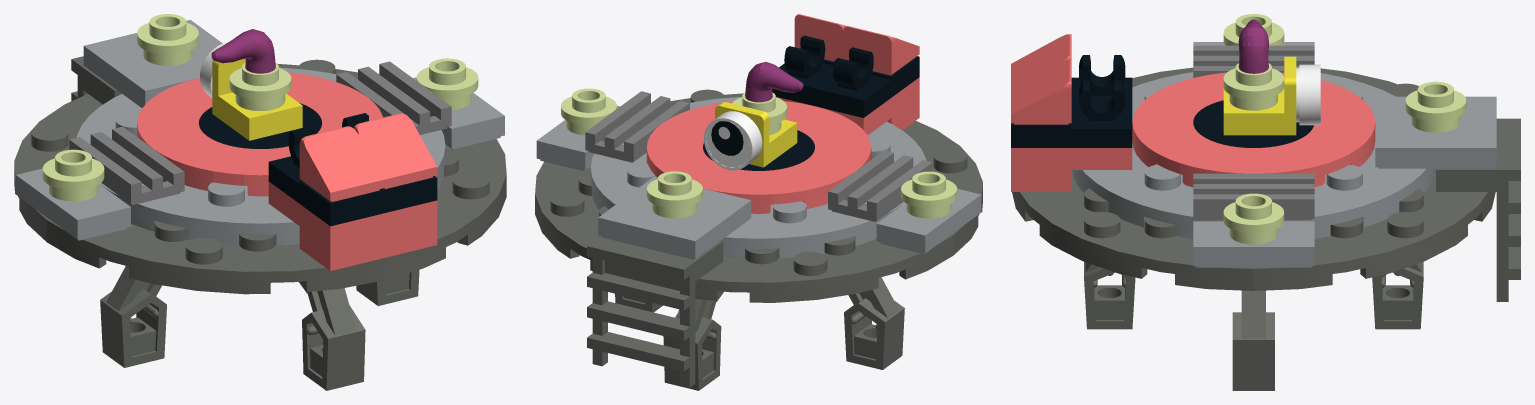
Rendered from LegoUfoBody.glb.
The picture shows the model from 3 angles, left to right: view 1: azimuth 30°, elevation 25°; view 2: azimuth 150°, elevation 25°; view 3: azimuth 270°, elevation 25°; orthographic projection. The views are drawn at different scales.
Parts seen in each view (by area): view 1: LegoUfoBody; view 2: LegoUfoBody; view 3: LegoUfoBody.
Boxes of the visible parts, <box> form: LegoUfoBody: <box>14,14,506,390</box>; LegoUfoBody: <box>535,14,982,390</box>; LegoUfoBody: <box>1011,14,1520,390</box>.
Size of the model in its own units: 160 by 106 by 168.
